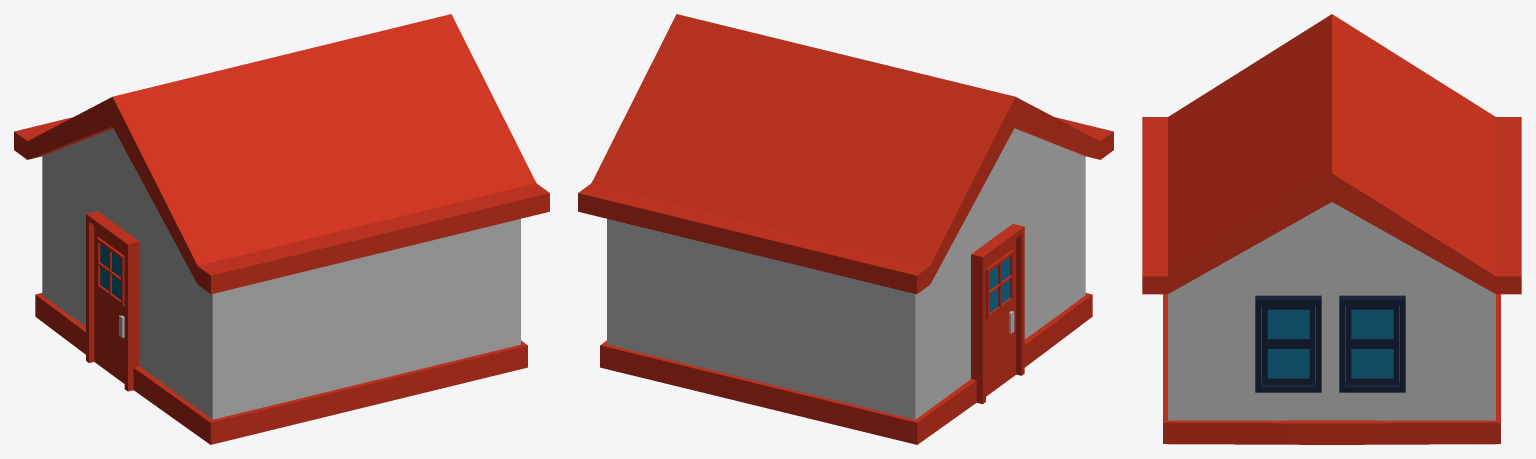
Rendered from casa1.FBX.
3 renders of one model, left to right at view 1: azimuth 30°, elevation 25°; view 2: azimuth 150°, elevation 25°; view 3: azimuth 270°, elevation 25°, orthographic. The views are drawn at different scales.
Visible parts, largest first — view 1: Box023, Tube028, Box025; view 2: Box023, Tube028, Box025; view 3: Box023, Tube037, Tube038, Tube035, Tube036, Tube039, Tube040.
Boxes of the visible parts, x1,y1,x2,y2 form: Box023: (14, 14, 549, 444); Tube028: (86, 211, 139, 391); Box025: (94, 226, 124, 383); Box023: (578, 14, 1113, 444); Tube028: (971, 224, 1024, 404); Box025: (986, 239, 1015, 396); Box023: (1142, 14, 1521, 444); Tube037: (1255, 295, 1321, 392); Tube038: (1339, 295, 1405, 392); Tube035: (1261, 305, 1315, 344); Tube036: (1261, 345, 1315, 384); Tube039: (1345, 305, 1399, 344); Tube040: (1345, 345, 1399, 384).
Bounding box in the file's own units: 195 × 158 × 196.
